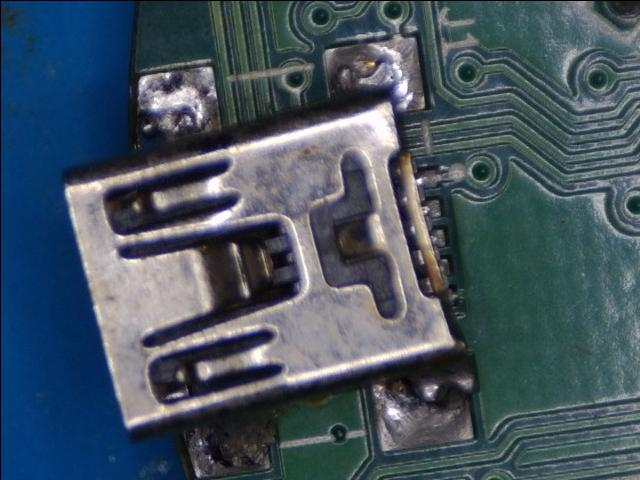Incorrect_installation: (60, 33, 479, 480)
